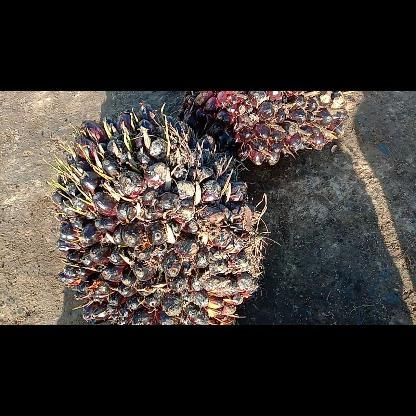TBS mentah: (47, 100, 267, 324), (176, 90, 361, 168)
